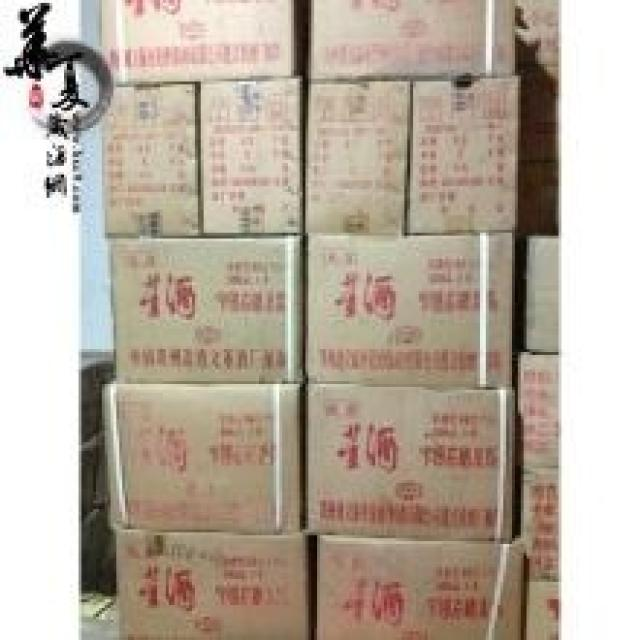box: (305, 387, 515, 541), (308, 236, 515, 387), (102, 384, 303, 532), (111, 244, 305, 384), (317, 538, 527, 637), (116, 535, 311, 637), (99, 0, 294, 87), (311, 0, 515, 79), (410, 81, 518, 230), (99, 87, 204, 239), (305, 81, 410, 233), (201, 79, 303, 233), (521, 355, 561, 468), (527, 239, 564, 355), (524, 471, 561, 582), (524, 585, 561, 640)
